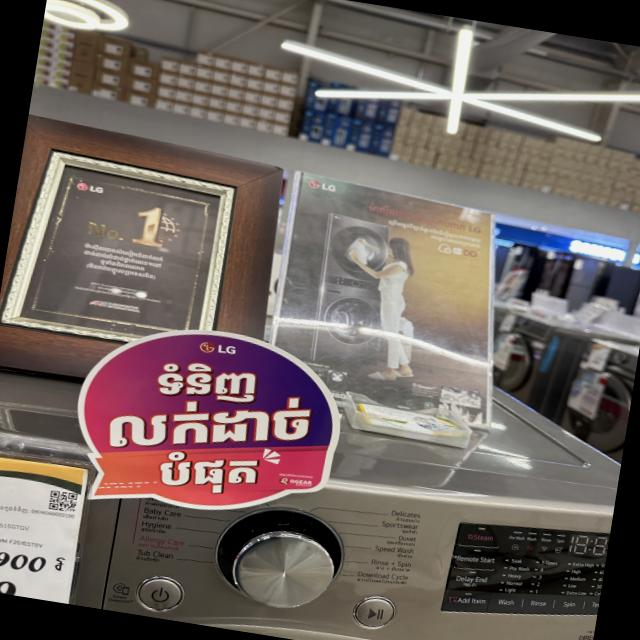Yolov11kh: (101, 398, 314, 450), (146, 359, 262, 406), (148, 447, 266, 493)
